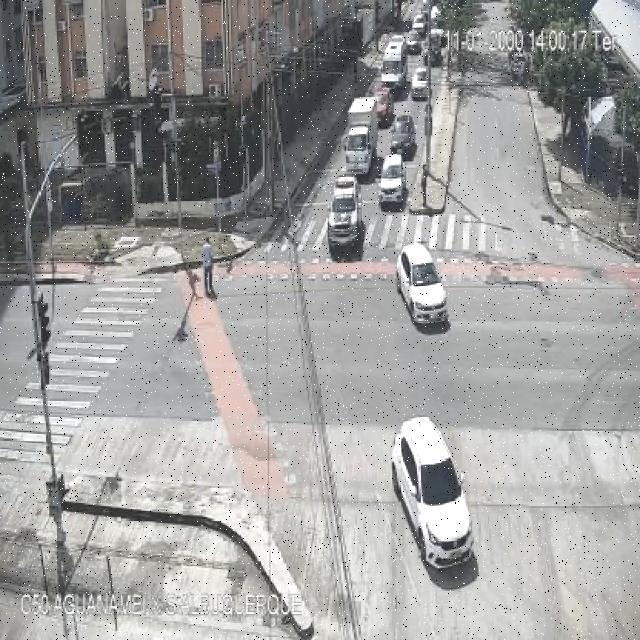Car: (391, 417, 473, 570), (396, 244, 450, 326), (328, 178, 363, 254), (379, 154, 407, 208), (389, 114, 417, 158), (372, 85, 394, 125), (509, 50, 530, 84), (409, 67, 430, 100), (426, 28, 446, 60), (411, 12, 428, 38), (404, 30, 422, 54)
Truck: (344, 97, 380, 176)
Van: (380, 36, 408, 90)
